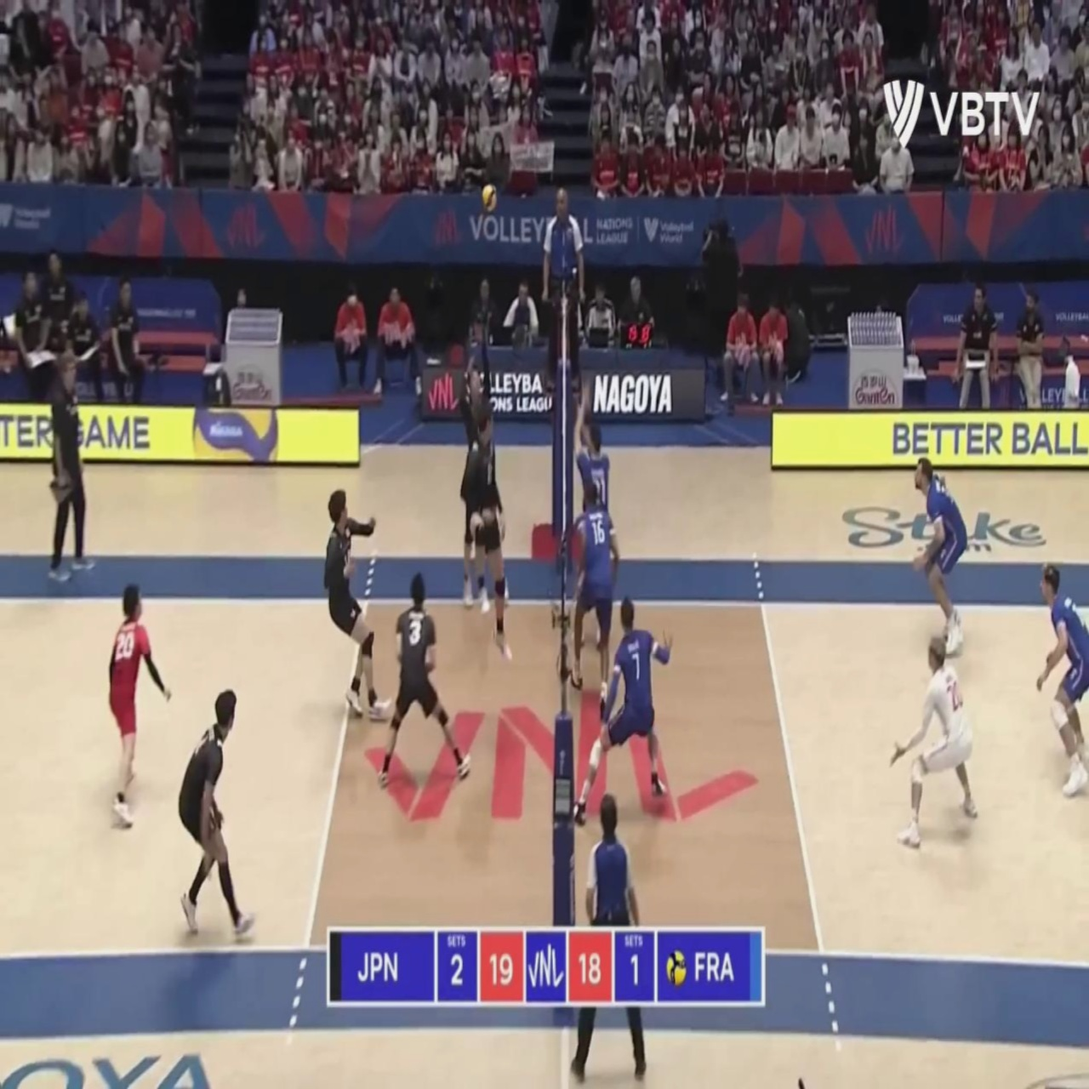ball: (480, 183, 497, 213)
